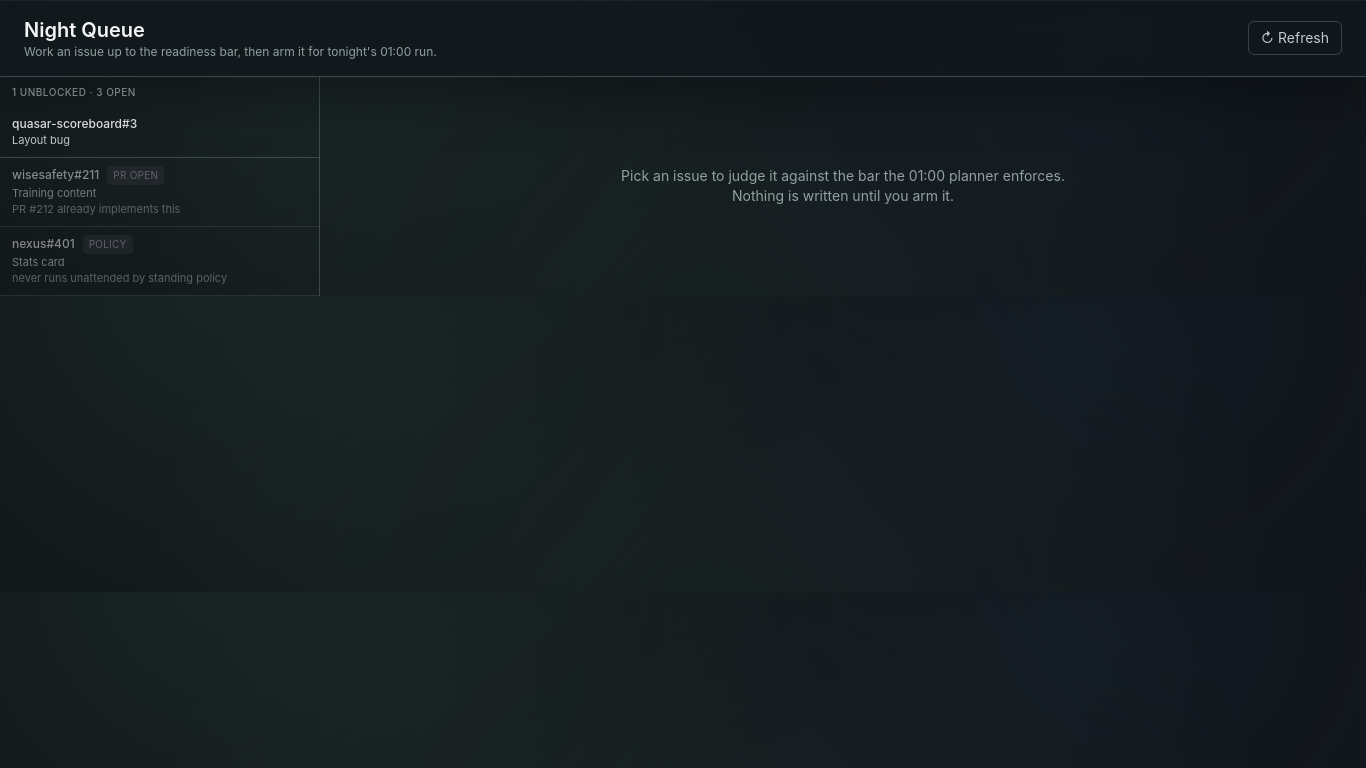
Test: NightQueueWorkshop › says so when there is no fenced comment, rather than pasting something else
Click the text "Layout bug": (41, 140) [12,133,70,147]
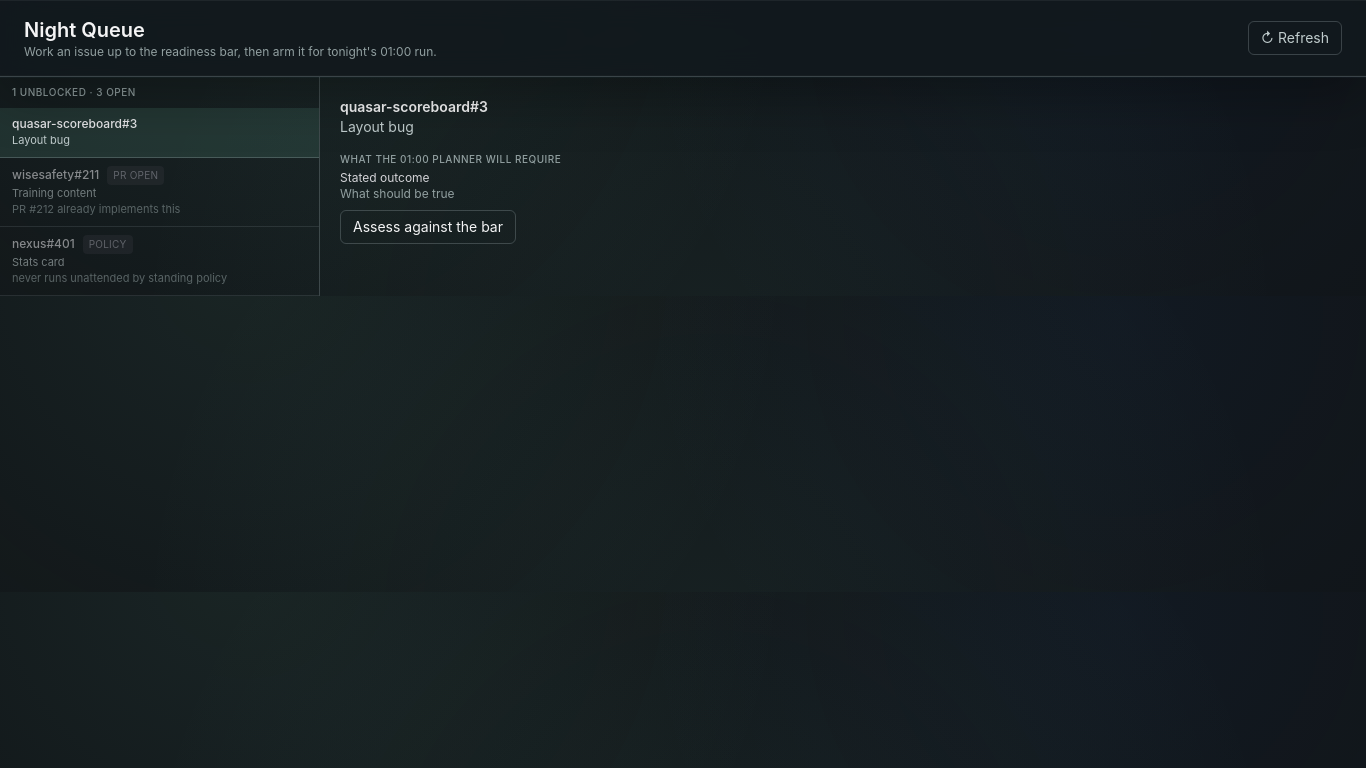
Click the button "Assess against the bar": (428, 227) [340,210,516,244]
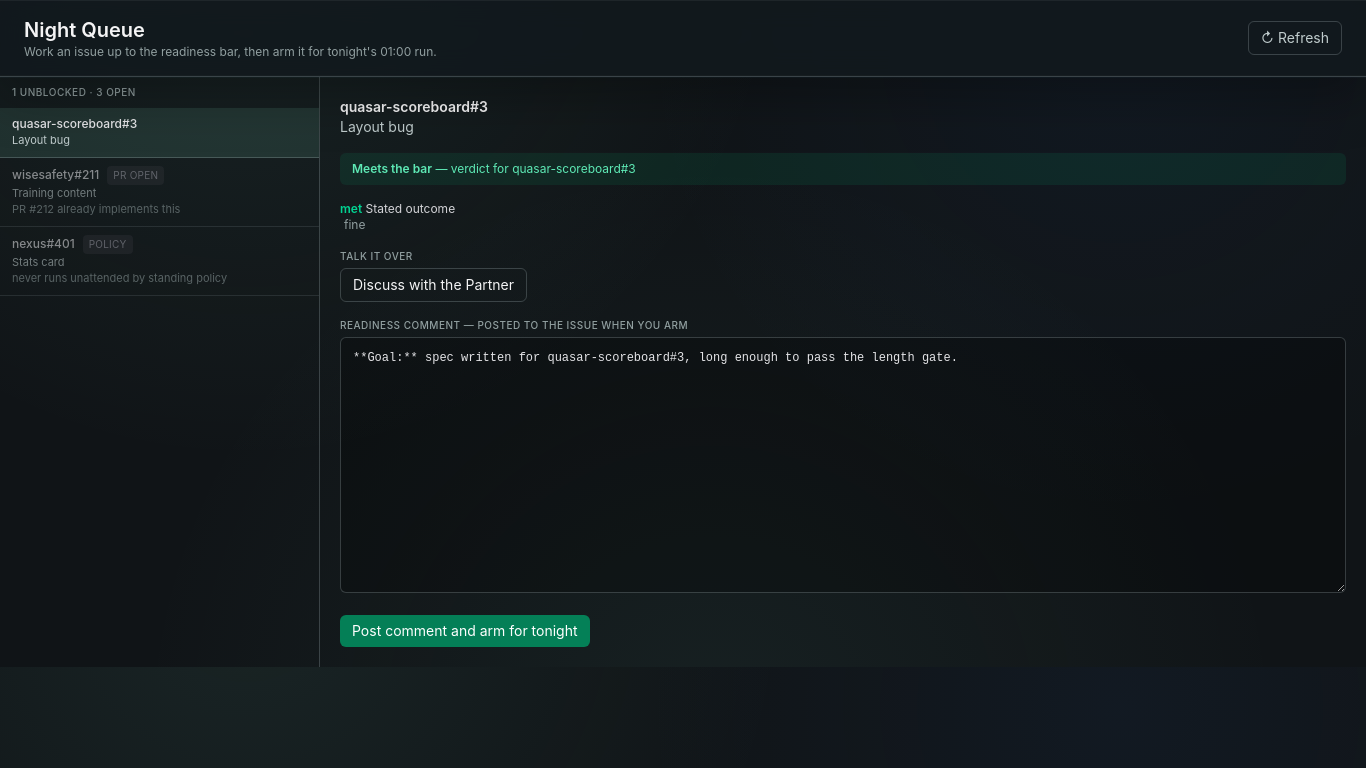
Result: the text "Meets the bar — verdict for quasar-scoreboard#3" is shown at [340,153,1346,185]
Click the button "Discuss with the Partner": (434, 285) [340,268,527,302]
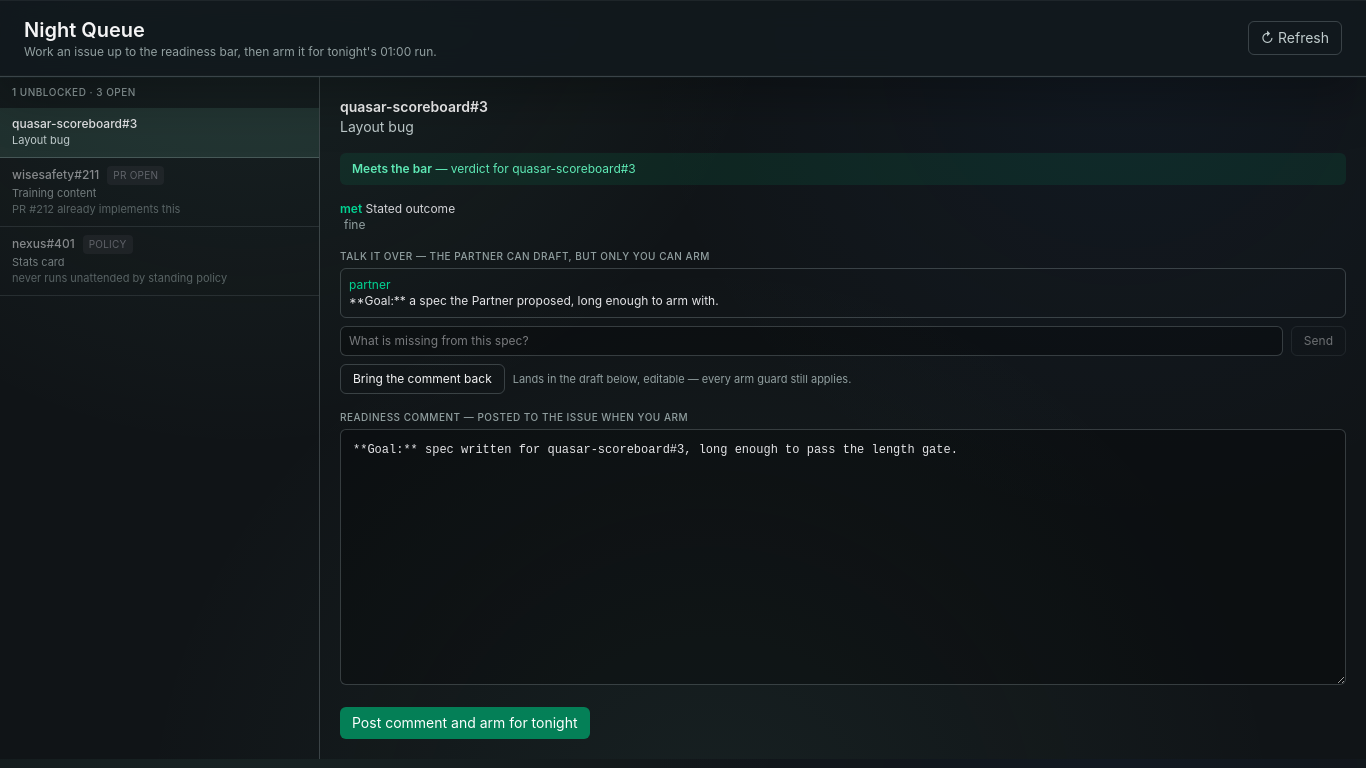
Click the button "Bring the comment back": (422, 379) [340,364,505,394]
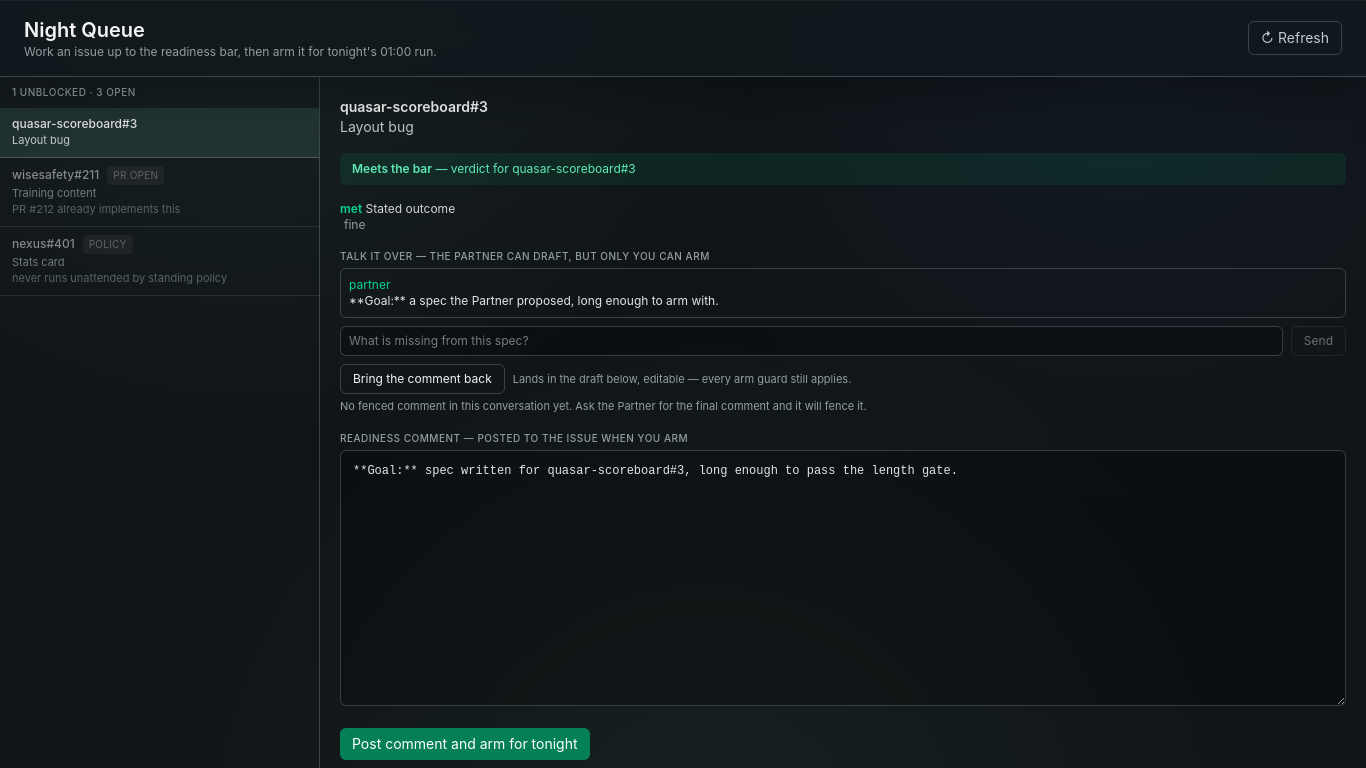
Result: the text "No fenced comment in this conversation yet" is shown at [340,399,867,413]
